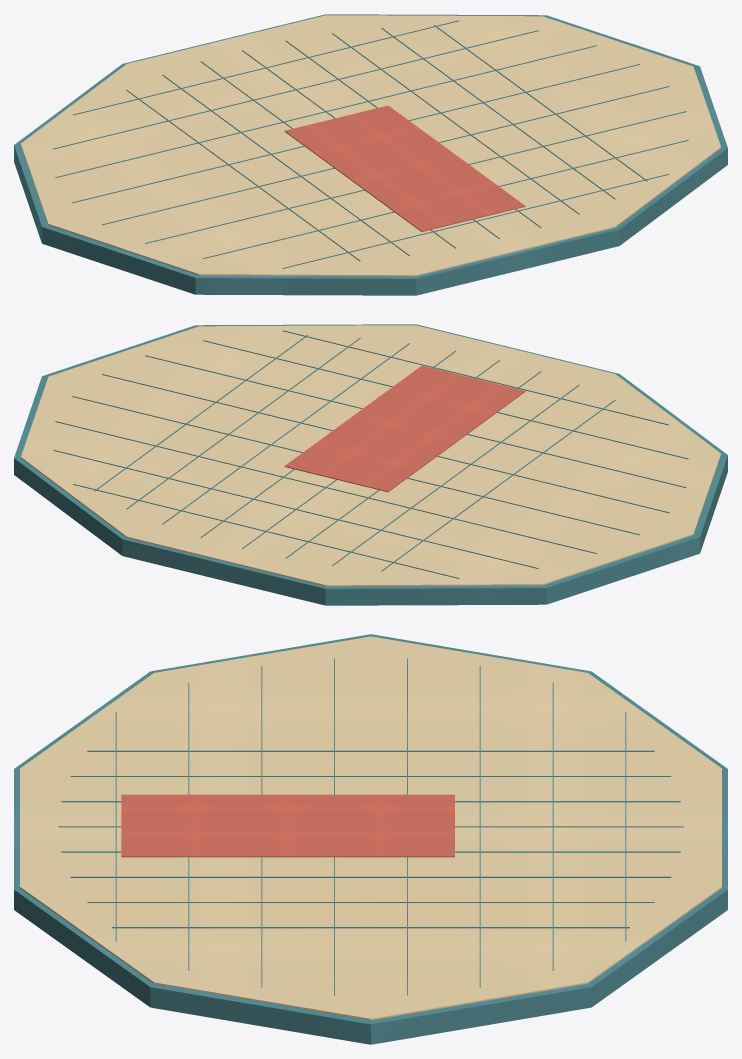
File: atlas100-s074-a07.lod1.glb
3 views of the same model, one above another, from view 1: azimuth 30°, elevation 25°; view 2: azimuth 150°, elevation 25°; view 3: azimuth 270°, elevation 25° (orthographic). The views are drawn at different scales.
Parts seen in each view (by area): view 1: atlas100-s074-a07:part-001, atlas100-s074-a07:part-000, atlas100-s074-a07:part-021, atlas100-s074-a07:part-015, atlas100-s074-a07:part-014, atlas100-s074-a07:part-016, atlas100-s074-a07:part-017, atlas100-s074-a07:part-018, atlas100-s074-a07:part-013, atlas100-s074-a07:part-020, atlas100-s074-a07:part-019, atlas100-s074-a07:part-005 (+3 smaller); view 2: atlas100-s074-a07:part-001, atlas100-s074-a07:part-000, atlas100-s074-a07:part-021, atlas100-s074-a07:part-015, atlas100-s074-a07:part-014, atlas100-s074-a07:part-017, atlas100-s074-a07:part-016, atlas100-s074-a07:part-018, atlas100-s074-a07:part-020, atlas100-s074-a07:part-013, atlas100-s074-a07:part-019, atlas100-s074-a07:part-005 (+3 smaller); view 3: atlas100-s074-a07:part-001, atlas100-s074-a07:part-000, atlas100-s074-a07:part-021, atlas100-s074-a07:part-009, atlas100-s074-a07:part-004, atlas100-s074-a07:part-011.
Part boxes in pixels (x1=…): atlas100-s074-a07:part-001: x1=21, y1=15, x2=720, y2=276; atlas100-s074-a07:part-000: x1=14, y1=14, x2=727, y2=295; atlas100-s074-a07:part-021: x1=284, y1=105, x2=525, y2=231; atlas100-s074-a07:part-015: x1=55, y1=45, x2=596, y2=177; atlas100-s074-a07:part-014: x1=53, y1=30, x2=538, y2=149; atlas100-s074-a07:part-016: x1=72, y1=64, x2=639, y2=203; atlas100-s074-a07:part-017: x1=102, y1=86, x2=669, y2=225; atlas100-s074-a07:part-018: x1=145, y1=111, x2=686, y2=243; atlas100-s074-a07:part-013: x1=73, y1=20, x2=458, y2=115; atlas100-s074-a07:part-020: x1=282, y1=174, x2=668, y2=268; atlas100-s074-a07:part-019: x1=203, y1=140, x2=688, y2=258; atlas100-s074-a07:part-005: x1=162, y1=74, x2=409, y2=255; atlas100-s074-a07:part-001: x1=21, y1=325, x2=720, y2=586; atlas100-s074-a07:part-000: x1=14, y1=324, x2=727, y2=605; atlas100-s074-a07:part-021: x1=284, y1=365, x2=525, y2=492; atlas100-s074-a07:part-015: x1=55, y1=421, x2=596, y2=553; atlas100-s074-a07:part-014: x1=53, y1=450, x2=538, y2=568; atlas100-s074-a07:part-017: x1=102, y1=374, x2=669, y2=513; atlas100-s074-a07:part-016: x1=72, y1=396, x2=639, y2=535; atlas100-s074-a07:part-018: x1=145, y1=355, x2=686, y2=487; atlas100-s074-a07:part-020: x1=283, y1=330, x2=668, y2=425; atlas100-s074-a07:part-013: x1=73, y1=484, x2=459, y2=578; atlas100-s074-a07:part-019: x1=203, y1=340, x2=688, y2=459; atlas100-s074-a07:part-005: x1=332, y1=384, x2=579, y2=565; atlas100-s074-a07:part-001: x1=20, y1=636, x2=721, y2=1020; atlas100-s074-a07:part-000: x1=14, y1=634, x2=727, y2=1044; atlas100-s074-a07:part-021: x1=121, y1=794, x2=454, y2=857; atlas100-s074-a07:part-009: x1=70, y1=876, x2=671, y2=877; atlas100-s074-a07:part-004: x1=87, y1=750, x2=654, y2=751; atlas100-s074-a07:part-011: x1=112, y1=927, x2=629, y2=928.
Bounding box in the file's own units: 13.95 × 0.404 × 10.78.
3 materials, 3 textured.
